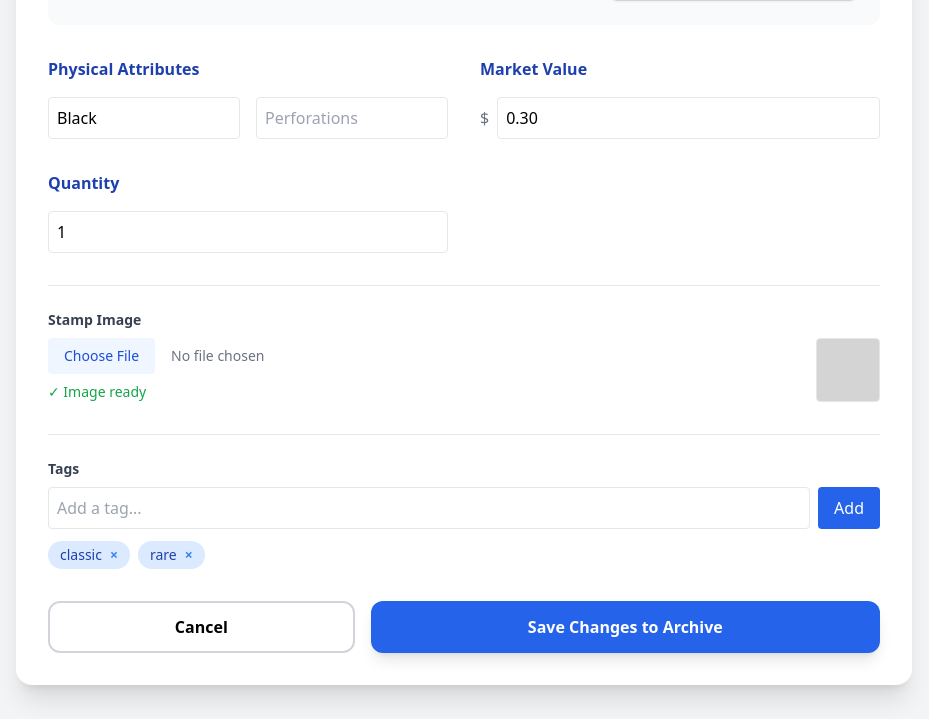
EditStampPage - tag editing › adds a new tag when the Add button is clicked
The image size is (929, 719).
(page scrolled)
Step 1. Type "victoria" into the field with placeholder "Add a tag..." → (429, 508), box x1=48 y1=487 x2=810 y2=529
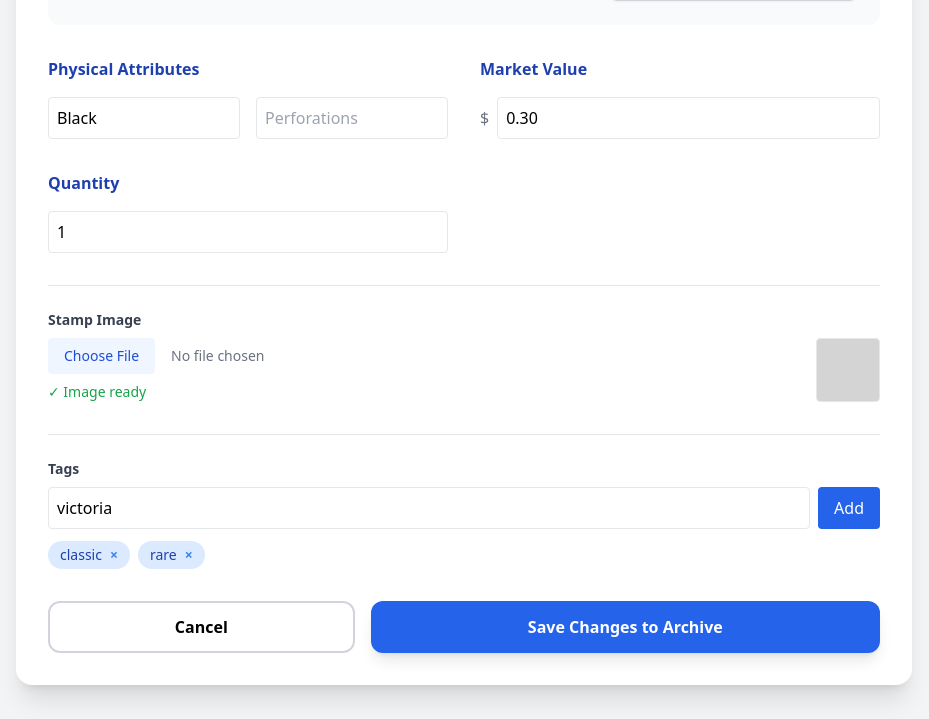
Step 2. Click the button "Add" → (849, 508), box x1=818 y1=487 x2=880 y2=529
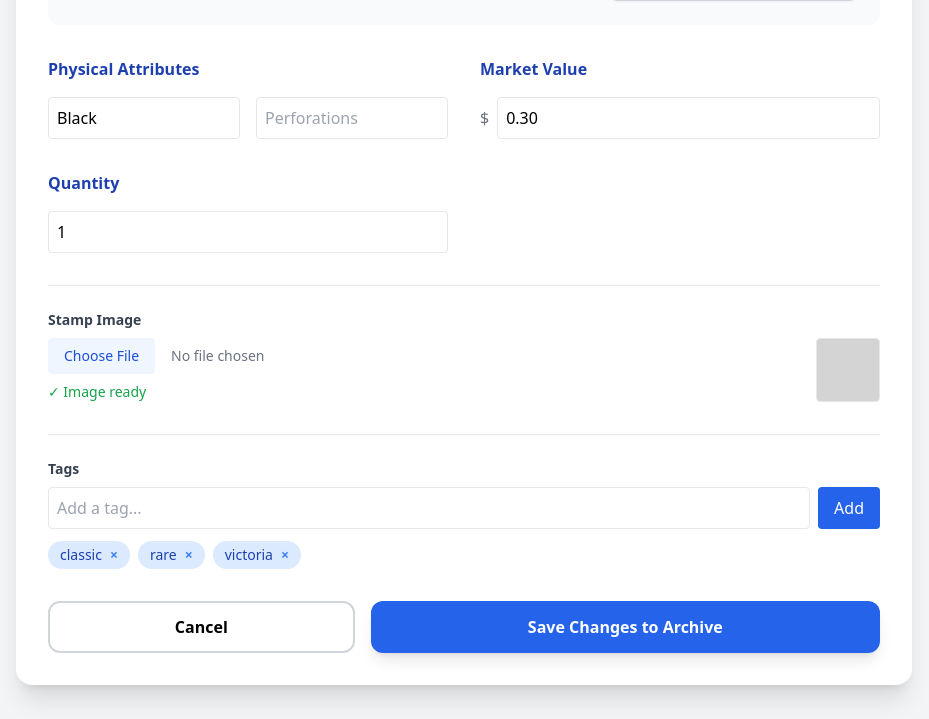
Expected: the text "victoria" is shown, x1=225 y1=545 x2=273 y2=564
